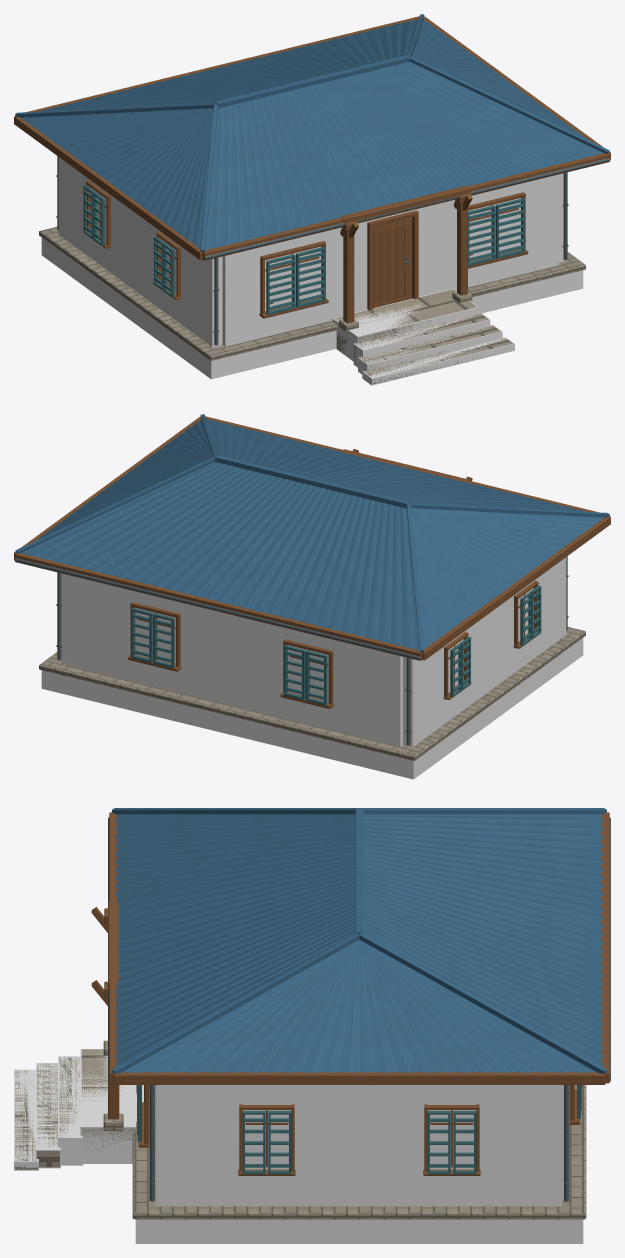
Rendered from Dhivehi_House_01_LOD0_v06.fbx.
3 renders of one model, top to bottom at view 1: azimuth 30°, elevation 25°; view 2: azimuth 150°, elevation 25°; view 3: azimuth 270°, elevation 25°, orthographic. The views are drawn at different scales.
Visible parts, largest first — view 1: Roof_Front_Corrugated_ExportFinal, House_Detail_static_House_Walnut.001_ExportFinal, Roof_Left_Hip_ExportFinal, COL_LeftWall, Roof_Back_Corrugated_ExportFinal, COL_FrontWall_Left, COL_FrontWall_Right, COL_Foundation, Foundation_Cap_ExportFinal, House_Detail_static_House_RoofBlue.001_ExportFinal, Roof_Right_Hip_ExportFinal, House_Detail_Door_HingePivot_Left_House_Walnut.001_ExportFin (+15 smaller); view 2: Roof_Back_Corrugated_ExportFinal, COL_BackWall, Roof_Left_Hip_ExportFinal, House_Detail_static_House_Walnut.001_ExportFinal, COL_LeftWall, COL_Foundation, Roof_Front_Corrugated_ExportFinal, Foundation_Cap_ExportFinal, House_Detail_static_House_RoofBlue.001_ExportFinal, Roof_Right_Hip_ExportFinal, House_Detail_static_House_DarkHardware.001_ExportFinal, House_Detail_Window_Back_L_Shutter_R_HingePivot_House_Shutte (+5 smaller); view 3: COL_RightWall, Roof_Back_Corrugated_ExportFinal, Roof_Front_Corrugated_ExportFinal, Roof_Right_Hip_ExportFinal, House_Detail_static_House_Walnut.001_ExportFinal, COL_Foundation, Foundation_Cap_ExportFinal, House_Detail_static_House_RoofBlue.001_ExportFinal, COL_EntryLanding, COL_EntryStep_1, House_Detail_static_House_DarkHardware.001_ExportFinal, COL_EntryStep_3 (+9 smaller).
Boxes of the visible parts, bbox=[...] form: Roof_Front_Corrugated_ExportFinal: bbox=[205, 62, 603, 250]; House_Detail_static_House_Walnut.001_ExportFinal: bbox=[14, 16, 610, 323]; Roof_Left_Hip_ExportFinal: bbox=[21, 108, 213, 248]; COL_LeftWall: bbox=[58, 157, 222, 346]; Roof_Back_Corrugated_ExportFinal: bbox=[40, 19, 418, 111]; COL_FrontWall_Left: bbox=[222, 220, 370, 346]; COL_FrontWall_Right: bbox=[411, 174, 558, 298]; COL_Foundation: bbox=[41, 238, 583, 379]; Foundation_Cap_ExportFinal: bbox=[39, 227, 585, 360]; House_Detail_static_House_RoofBlue.001_ExportFinal: bbox=[15, 14, 609, 252]; Roof_Right_Hip_ExportFinal: bbox=[412, 19, 589, 140]; House_Detail_Door_HingePivot_Left_House_Walnut.001_ExportFin: bbox=[373, 217, 411, 307]; Roof_Back_Corrugated_ExportFinal: bbox=[21, 462, 419, 650]; COL_BackWall: bbox=[65, 574, 402, 746]; Roof_Left_Hip_ExportFinal: bbox=[411, 508, 603, 649]; House_Detail_static_House_Walnut.001_ExportFinal: bbox=[14, 416, 610, 708]; COL_LeftWall: bbox=[403, 557, 566, 747]; COL_Foundation: bbox=[41, 638, 583, 779]; Roof_Front_Corrugated_ExportFinal: bbox=[206, 419, 584, 511]; Foundation_Cap_ExportFinal: bbox=[39, 627, 585, 760]; House_Detail_static_House_RoofBlue.001_ExportFinal: bbox=[15, 414, 609, 652]; Roof_Right_Hip_ExportFinal: bbox=[34, 420, 212, 541]; House_Detail_static_House_DarkHardware.001_ExportFinal: bbox=[14, 556, 568, 745]; House_Detail_Window_Back_L_Shutter_R_HingePivot_House_Shutte: bbox=[305, 650, 327, 705]; COL_RightWall: bbox=[156, 1085, 562, 1206]; Roof_Back_Corrugated_ExportFinal: bbox=[363, 814, 603, 1066]; Roof_Front_Corrugated_ExportFinal: bbox=[115, 814, 355, 1066]; Roof_Right_Hip_ExportFinal: bbox=[122, 940, 596, 1072]; House_Detail_static_House_Walnut.001_ExportFinal: bbox=[91, 812, 609, 1175]; COL_Foundation: bbox=[135, 1219, 583, 1243]; Foundation_Cap_ExportFinal: bbox=[132, 1085, 586, 1219]; House_Detail_static_House_RoofBlue.001_ExportFinal: bbox=[112, 808, 606, 1074]; COL_EntryLanding: bbox=[80, 1049, 143, 1163]; COL_EntryStep_1: bbox=[58, 1056, 83, 1165]; House_Detail_static_House_DarkHardware.001_ExportFinal: bbox=[108, 817, 610, 1201]; COL_EntryStep_3: bbox=[14, 1069, 38, 1170].
Bounding box in the file's own units: 10.5 × 4.72 × 10.01.
7 materials, 5 textured.
